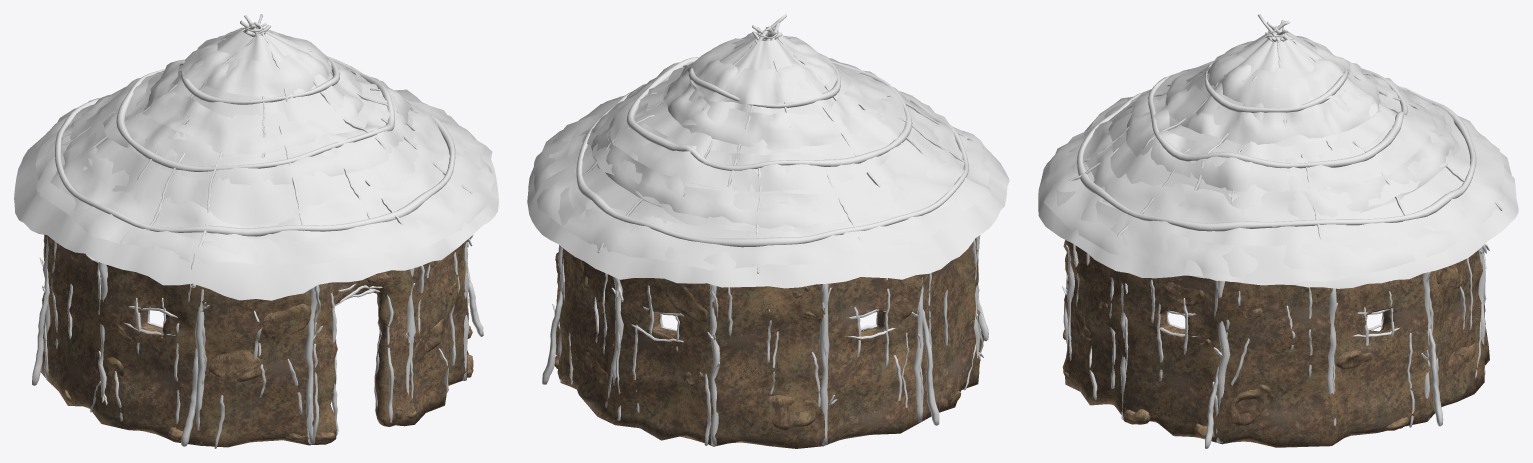
The model's file is highpoly_african_hut_001.fbx.
3 renders of one model, left to right at view 1: azimuth 30°, elevation 25°; view 2: azimuth 150°, elevation 25°; view 3: azimuth 270°, elevation 25°, orthographic.
Parts seen in each view (by area): view 1: highpoly_african_hut_001; view 2: highpoly_african_hut_001; view 3: highpoly_african_hut_001.
Part boxes in pixels (<box>): highpoly_african_hut_001: <box>14,14,498,448</box>; highpoly_african_hut_001: <box>527,14,1009,448</box>; highpoly_african_hut_001: <box>1038,14,1518,448</box>.
Bounding box in the file's own units: 455 × 363 × 457.
